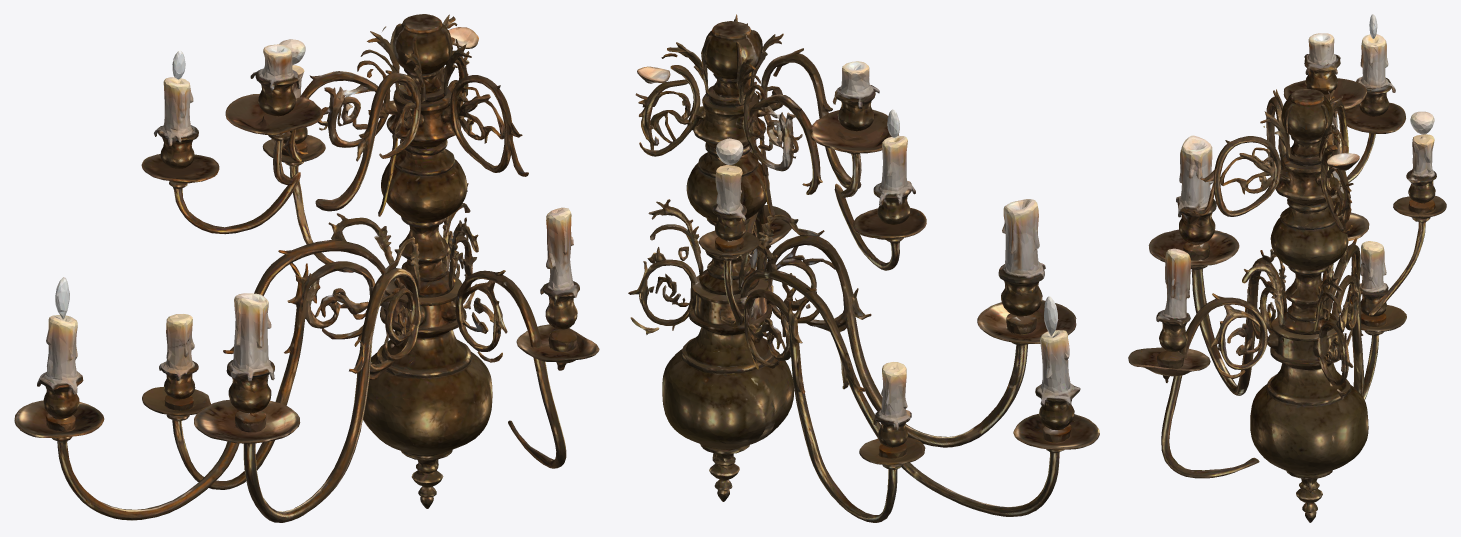
Rendered from victorian_chandelier.glb.
3 renders of one model, left to right at view 1: azimuth 30°, elevation 25°; view 2: azimuth 150°, elevation 25°; view 3: azimuth 270°, elevation 25°, orthographic. The views are drawn at different scales.
Visible parts, largest first — view 1: world; view 2: world; view 3: world.
Boxes of the visible parts, box(x1,y1,x2,y2) form: world: box(14, 14, 599, 522); world: box(628, 14, 1099, 522); world: box(1128, 14, 1446, 522).
Size of the model in its own units: 1.99 by 1.99 by 1.35.
Materials: 1 (1 with a texture image).
